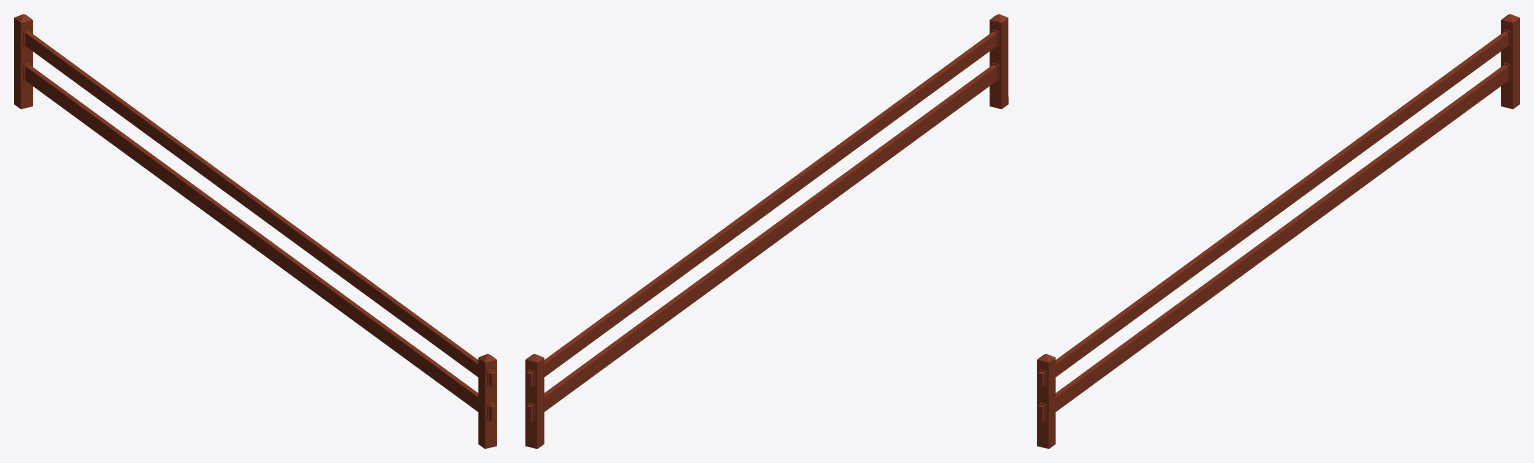
Rendered from Fence20(1).fbx.
3 renders of one model, left to right at view 1: azimuth 30°, elevation 25°; view 2: azimuth 150°, elevation 25°; view 3: azimuth 330°, elevation 25°, orthographic.
Visible parts, largest first — view 1: Fence20; view 2: Fence20; view 3: Fence20.
Boxes of the visible parts, x1,y1,x2,y2 form: Fence20: (14, 14, 496, 448); Fence20: (525, 14, 1008, 448); Fence20: (1037, 14, 1519, 448).
Bounding box in the file's own units: 30 × 214 × 2026.
